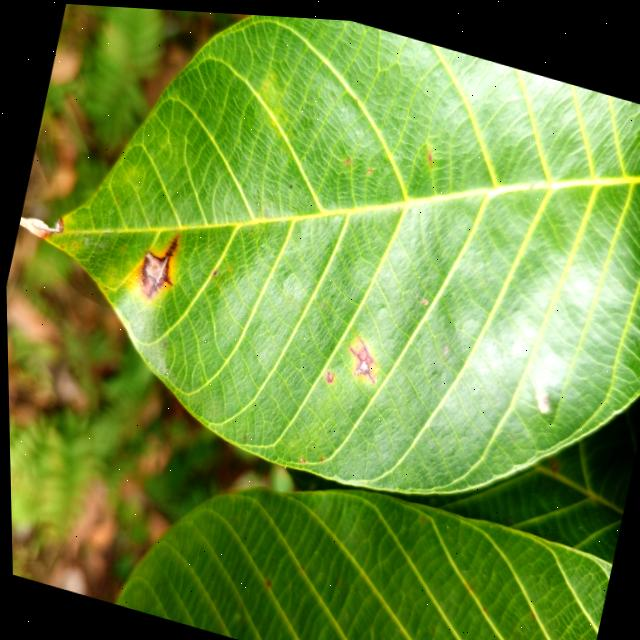Corynespora: (134, 221, 185, 301), (342, 329, 383, 378)
Leaf-Blight: (16, 208, 63, 242), (367, 163, 372, 168)
